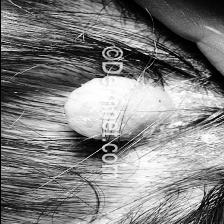Potentially Malignant Skin Tumors: (118, 80, 171, 140), (60, 76, 100, 152)
